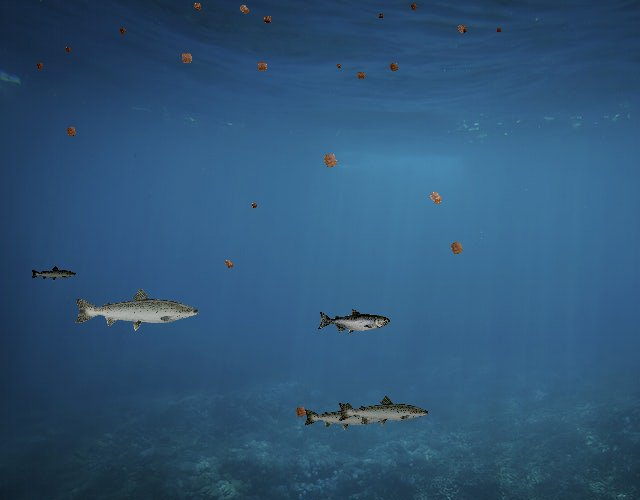Fish: (72, 286, 201, 332), (337, 394, 431, 428), (302, 401, 388, 432), (318, 309, 391, 335), (31, 265, 78, 282)
Pellet: (422, 185, 449, 212), (444, 235, 469, 261), (175, 47, 198, 70), (290, 401, 312, 423), (220, 255, 238, 273), (116, 24, 130, 38), (248, 200, 260, 212)
